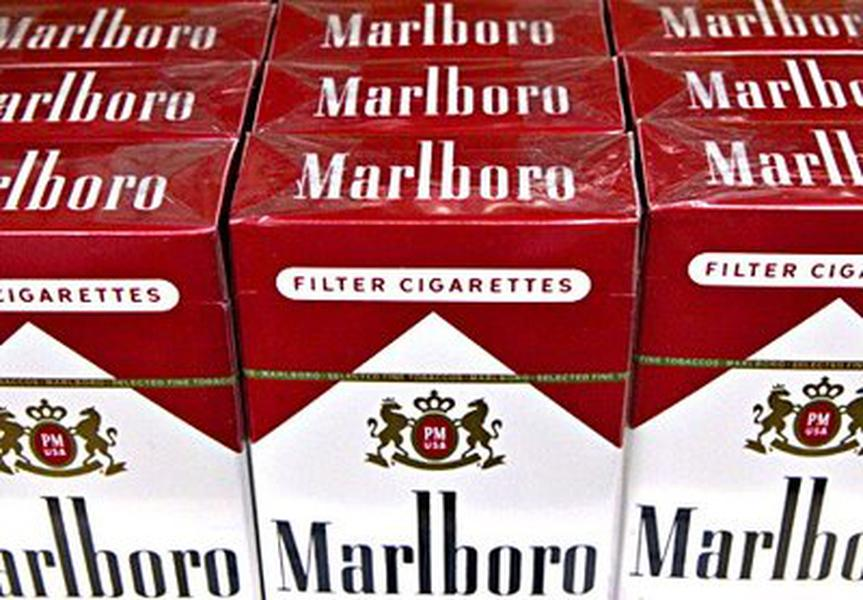marlboro_red: (250, 225, 629, 600), (1, 236, 247, 599), (637, 216, 862, 600)
